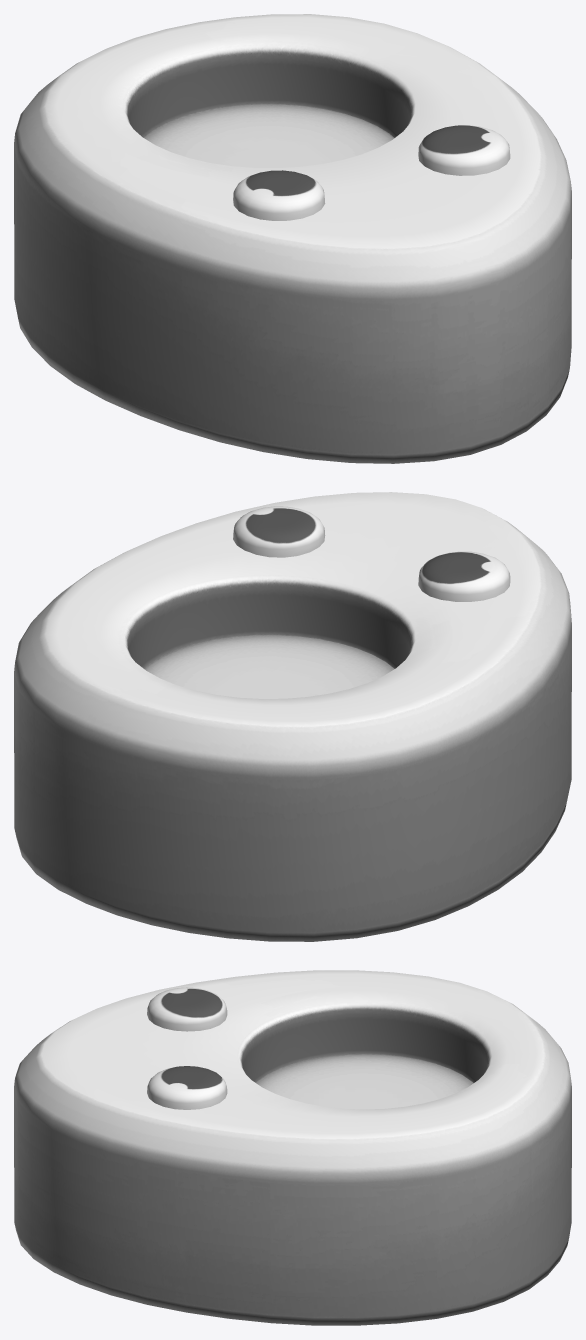
The model's file is Pin_Model_2.fbx.
The picture shows the model from 3 angles, top to bottom: view 1: azimuth 30°, elevation 25°; view 2: azimuth 150°, elevation 25°; view 3: azimuth 270°, elevation 25°; orthographic projection. The views are drawn at different scales.
Visible parts, largest first — view 1: Pin_avocado, polySurface6; view 2: Pin_avocado, polySurface6; view 3: Pin_avocado, polySurface6.
Part boxes in pixels (x1,y1,x2,y2): Pin_avocado: [14, 14, 571, 463]; polySurface6: [233, 125, 510, 220]; Pin_avocado: [14, 492, 571, 941]; polySurface6: [233, 506, 510, 601]; Pin_avocado: [14, 970, 571, 1325]; polySurface6: [147, 987, 227, 1109].
Size of the model in its own units: 0.5658 by 0.2684 by 0.6968.
4 materials, 4 textured.
